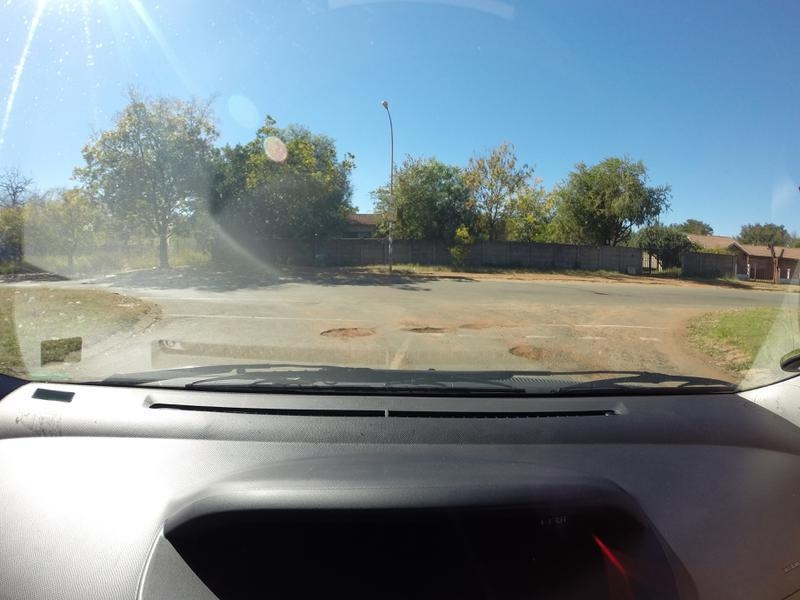pothole: (495, 334, 557, 368), (306, 319, 372, 347), (458, 316, 508, 338), (401, 320, 451, 340)
